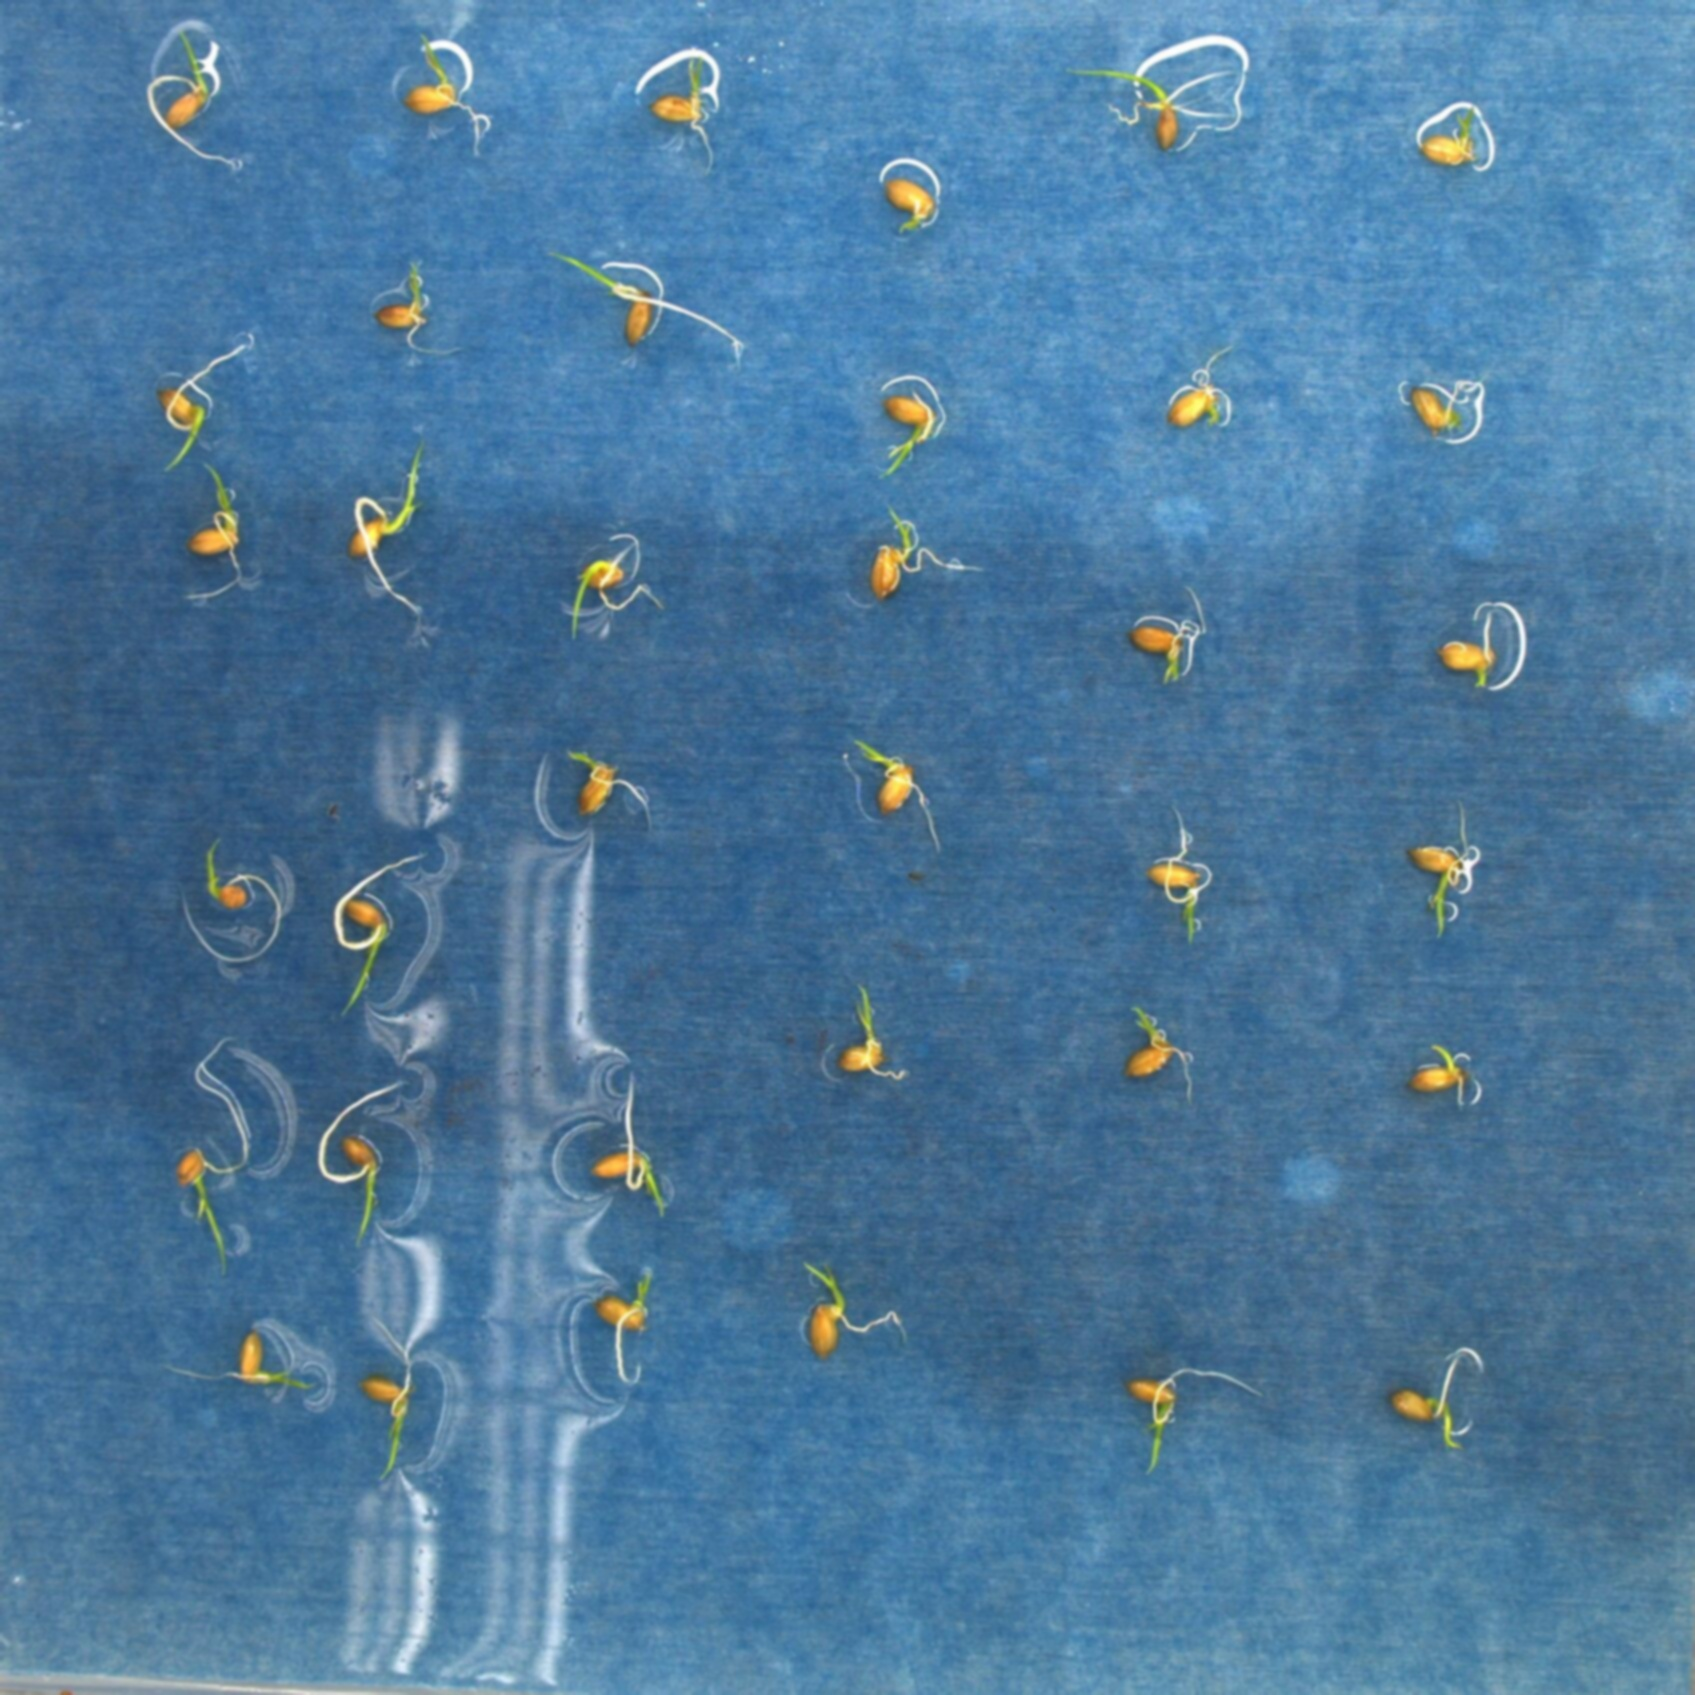not sprout: (1406, 373, 1493, 438), (1437, 610, 1499, 691), (885, 179, 938, 231)
sprout: (545, 247, 747, 359), (175, 1034, 253, 1277), (314, 1077, 410, 1251), (332, 851, 425, 1023), (1065, 65, 1237, 154), (1128, 1364, 1260, 1475), (348, 439, 425, 626), (175, 834, 282, 964), (154, 337, 248, 475), (144, 29, 237, 168), (871, 497, 983, 601), (588, 1066, 664, 1218), (846, 733, 944, 851), (802, 1259, 911, 1360), (568, 531, 664, 644), (161, 1327, 320, 1394), (404, 33, 490, 154), (360, 1305, 418, 1484), (1146, 804, 1217, 945), (1406, 799, 1471, 938), (376, 267, 469, 357), (188, 459, 244, 605), (647, 43, 712, 168), (1130, 584, 1211, 683), (1388, 1352, 1467, 1453), (835, 981, 913, 1083), (1121, 1004, 1195, 1104), (593, 1267, 655, 1385), (563, 747, 653, 827), (1166, 345, 1237, 432), (882, 394, 938, 480), (1408, 1040, 1475, 1110), (1419, 106, 1479, 168)
